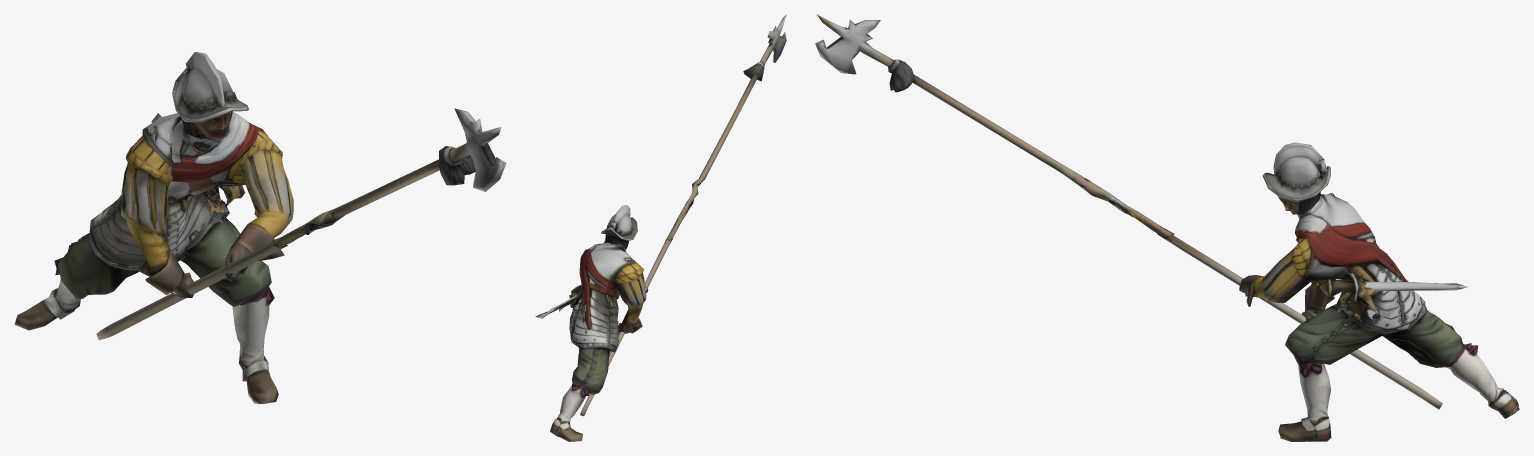
Rendered from PIKEMAN_Ger_Atk.glb.
The picture shows the model from 3 angles, left to right: view 1: azimuth 30°, elevation 25°; view 2: azimuth 150°, elevation 25°; view 3: azimuth 270°, elevation 25°; orthographic projection. The views are drawn at different scales.
Parts seen in each view (by area): view 1: Mesh1.002; view 2: Mesh1.002; view 3: Mesh1.002.
Boxes of the visible parts, <box> form: Mesh1.002: <box>14,52,506,403</box>; Mesh1.002: <box>535,14,786,441</box>; Mesh1.002: <box>815,14,1519,441</box>.
Bounding box in the file's own units: 0.7204 × 2.53 × 4.03.
Materials: 1 (1 with a texture image).
